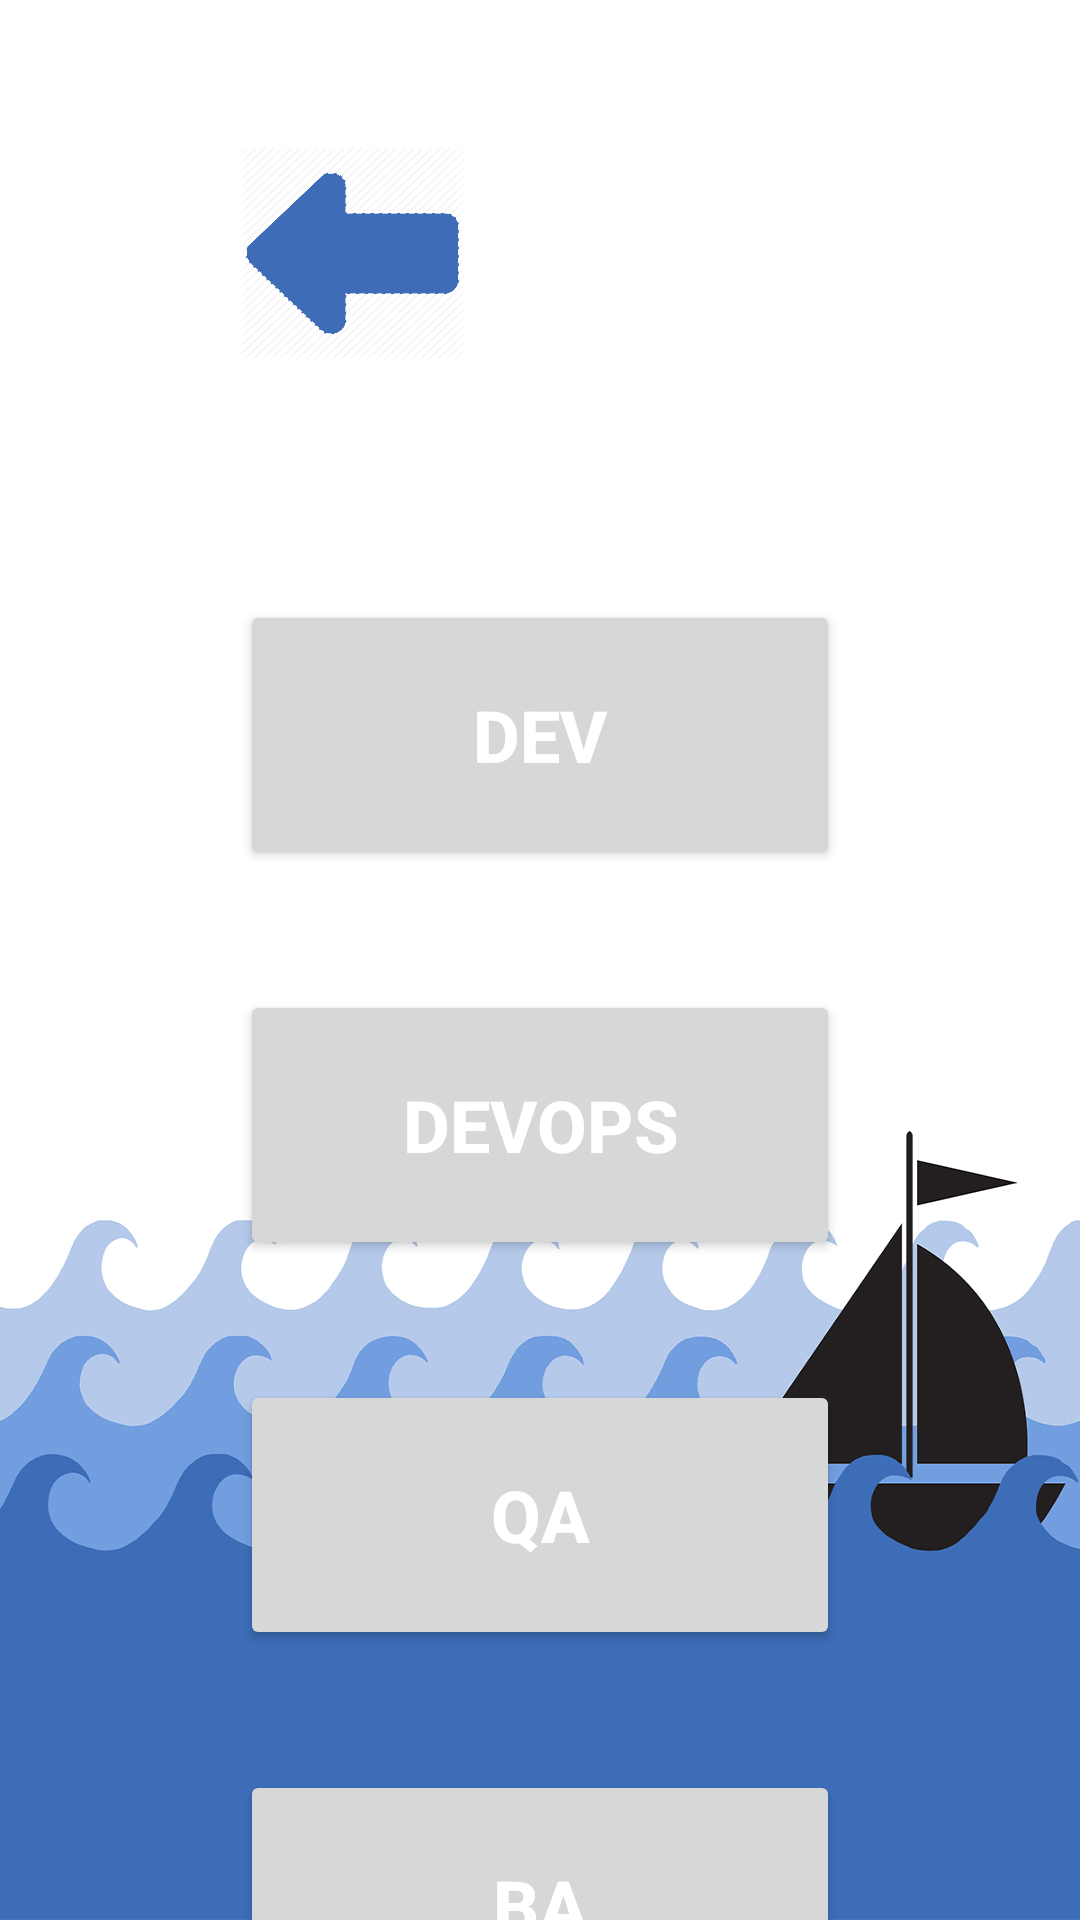

Icon click points for this 1080w x 1920h phone screenshot, format point (x, y):
left arrow: point (352, 253)
